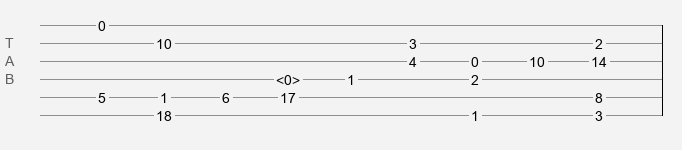0: (98, 18, 106, 28), (471, 54, 479, 64)
1: (160, 90, 168, 100), (347, 72, 355, 82), (471, 108, 479, 118)
10: (156, 36, 172, 46), (529, 54, 545, 64)
14: (591, 54, 607, 64)
17: (280, 90, 296, 100)
18: (156, 108, 172, 118)
2: (471, 72, 479, 82), (595, 36, 603, 46)
3: (409, 36, 417, 46), (595, 108, 603, 118)
4: (409, 54, 417, 64)
5: (98, 90, 106, 100)
6: (222, 90, 230, 100)
8: (595, 90, 603, 100)
harmonic: (276, 72, 300, 82)
